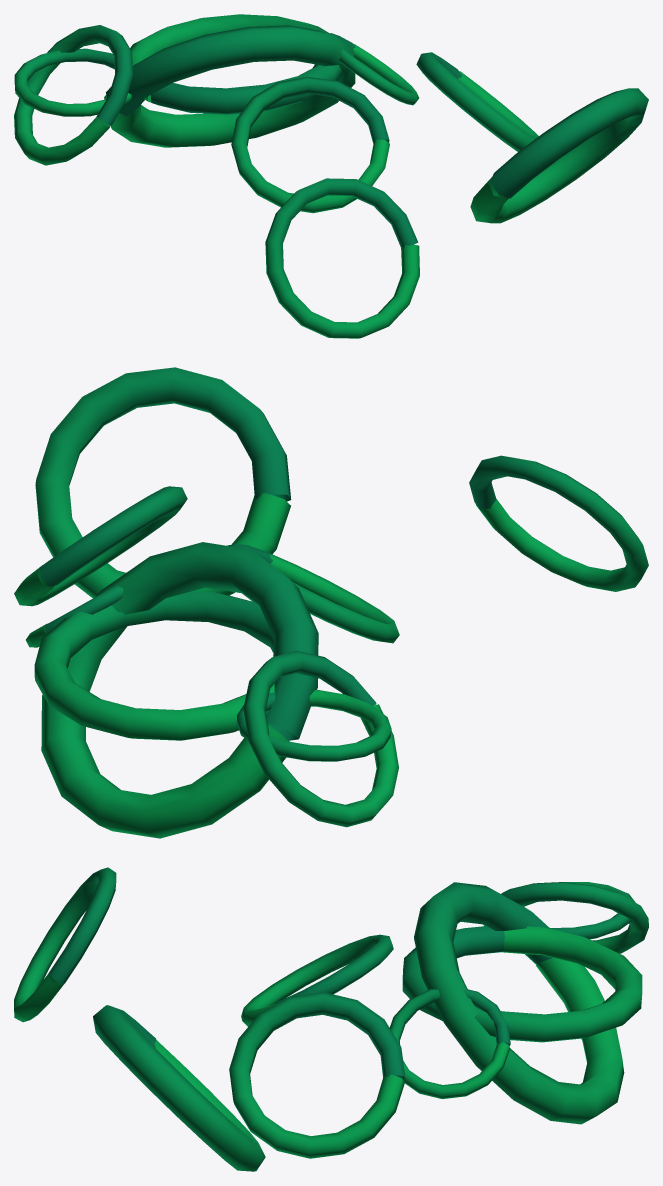
File: choir_votive_rings.glb
3 renders of one model, top to bottom at view 1: azimuth 30°, elevation 25°; view 2: azimuth 150°, elevation 25°; view 3: azimuth 270°, elevation 25°, orthographic. The views are drawn at different scales.
Visible parts, largest first — view 1: choir_votive_rings; view 2: choir_votive_rings; view 3: choir_votive_rings.
Boxes of the visible parts, box(x1,y1,x2,y2) form: choir_votive_rings: box(14, 14, 648, 338); choir_votive_rings: box(14, 367, 648, 838); choir_votive_rings: box(14, 867, 648, 1171).
Size of what is drawn, in the model's own units: 2 by 0.7748 by 2.28.
